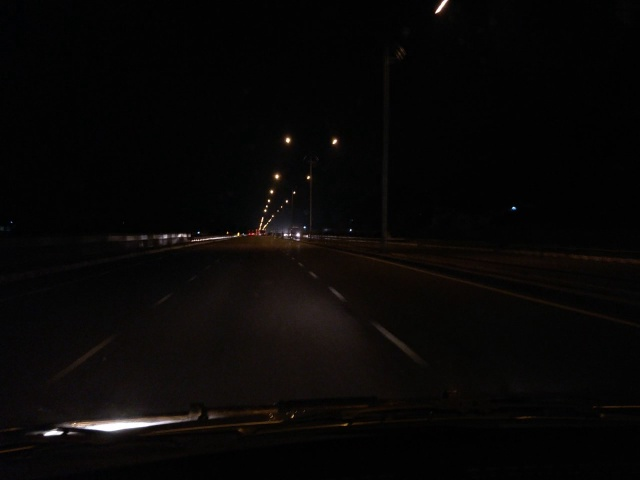truck: (286, 223, 306, 240)
